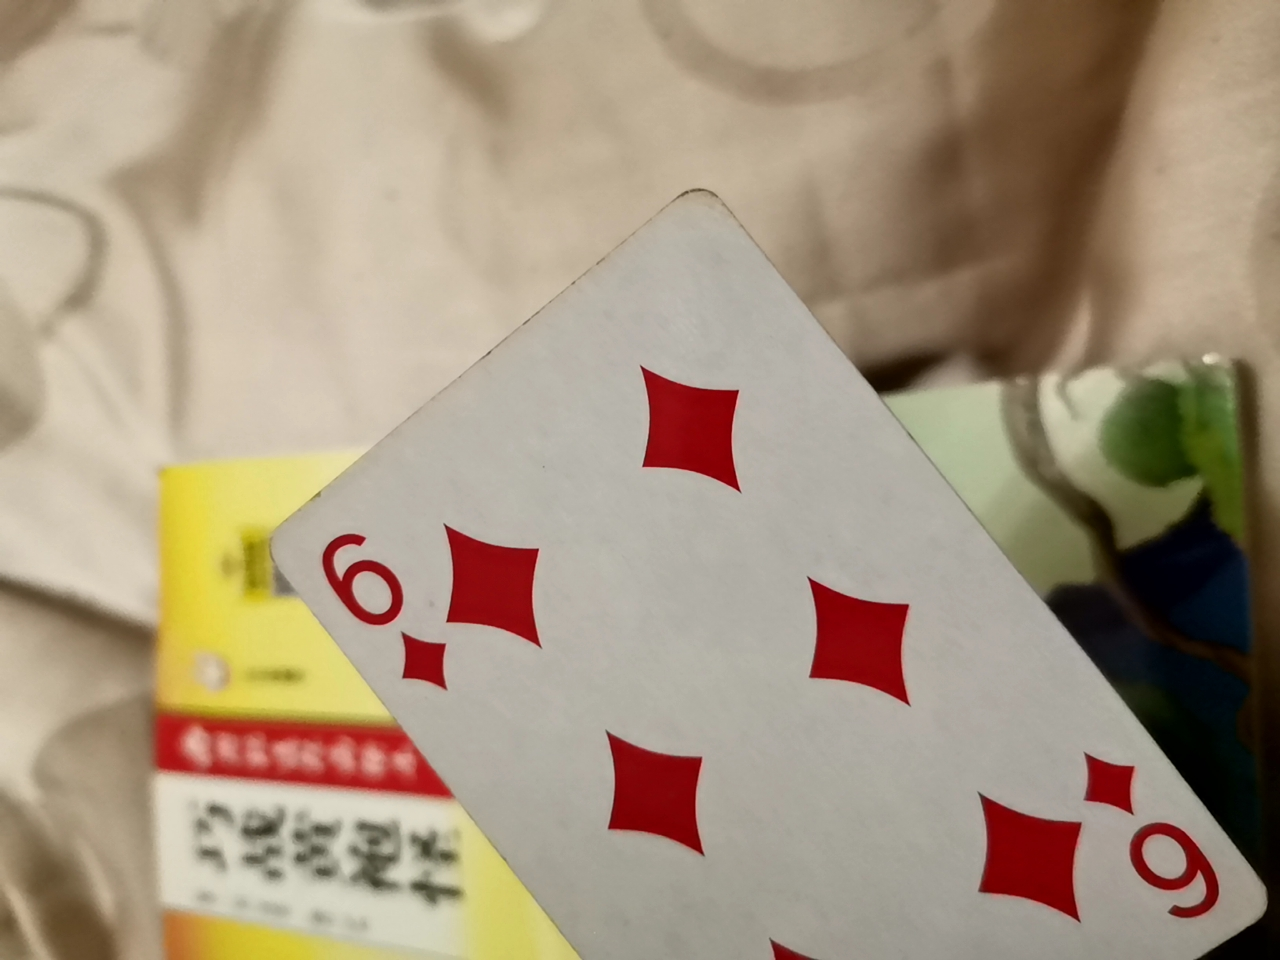fk 6: (225, 175, 1245, 949)
